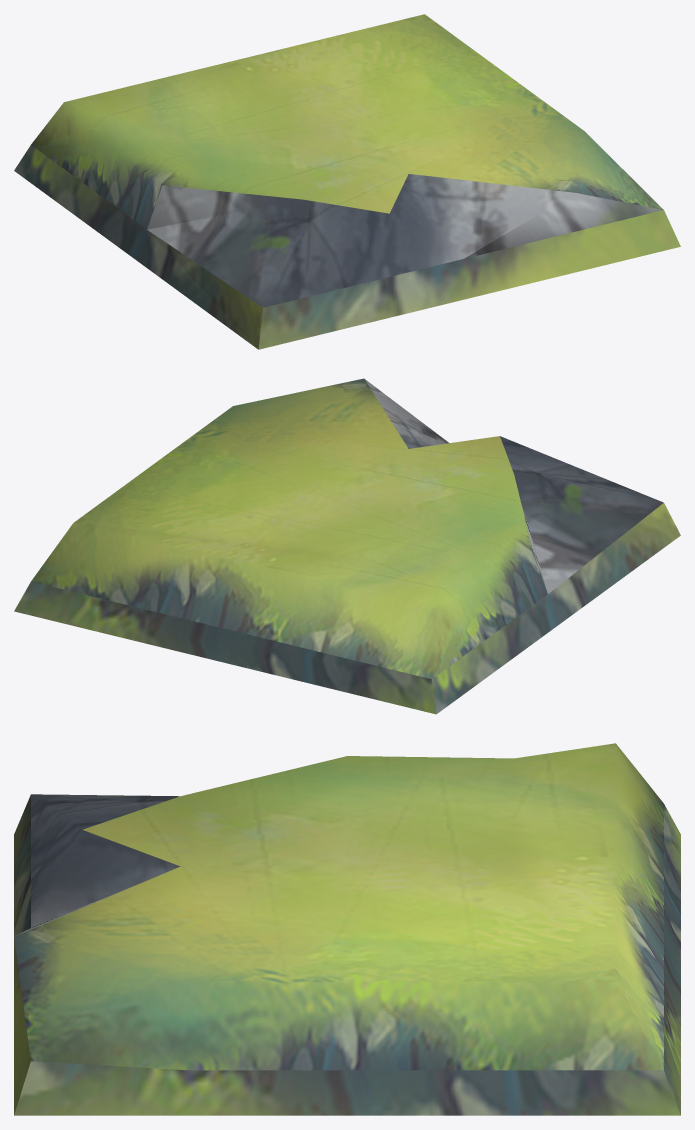
The model's file is Green_MD_Addsquare.fbx.
The picture shows the model from 3 angles, top to bottom: view 1: azimuth 30°, elevation 25°; view 2: azimuth 150°, elevation 25°; view 3: azimuth 270°, elevation 25°; orthographic projection. The views are drawn at different scales.
Parts seen in each view (by area): view 1: Green_MD_AddSquare; view 2: Green_MD_AddSquare; view 3: Green_MD_AddSquare.
Boxes of the visible parts, box(x1,y1,x2,y2) form: Green_MD_AddSquare: box(14, 14, 680, 349); Green_MD_AddSquare: box(14, 378, 680, 714); Green_MD_AddSquare: box(14, 743, 680, 1115).
Bounding box in the file's own units: 0.718 × 0.1295 × 0.72.
